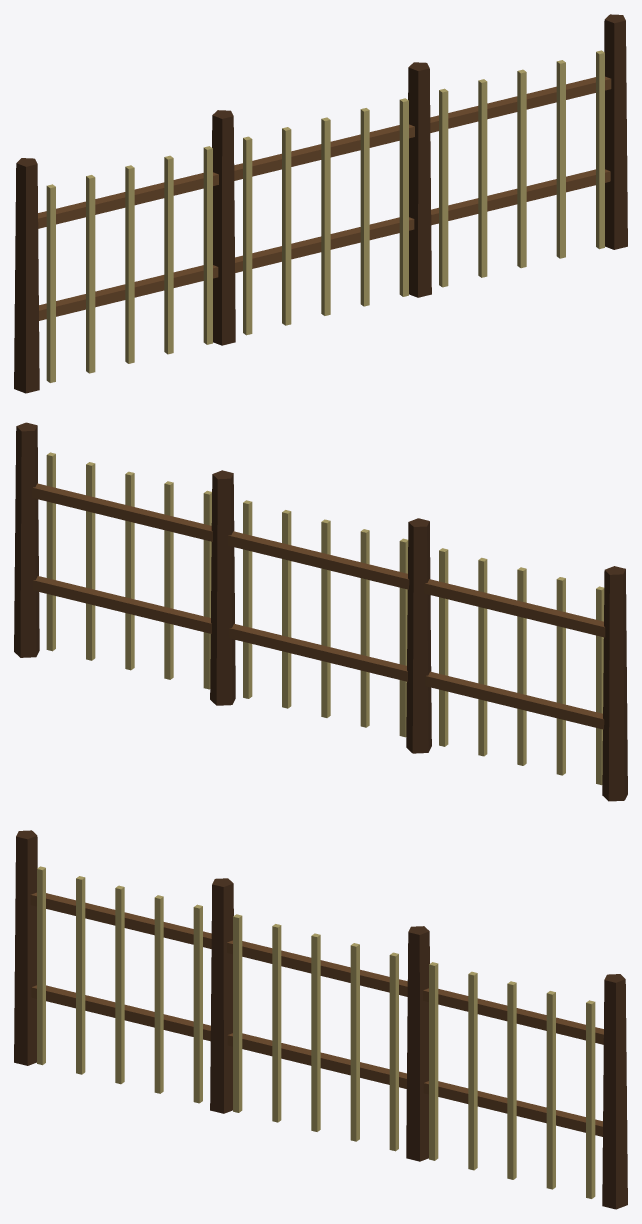
The model's file is prop_fence.glb.
3 views of the same model, one above another, from view 1: azimuth 30°, elevation 25°; view 2: azimuth 150°, elevation 25°; view 3: azimuth 330°, elevation 25° (orthographic).
Visible parts, largest first — view 1: prop_fence; view 2: prop_fence; view 3: prop_fence.
Part boxes in pixels (bbox=[...]): prop_fence: bbox=[14, 14, 627, 393]; prop_fence: bbox=[14, 422, 627, 801]; prop_fence: bbox=[14, 830, 627, 1209].
Size of the model in its own units: 3.11 by 1.1 by 0.115.
